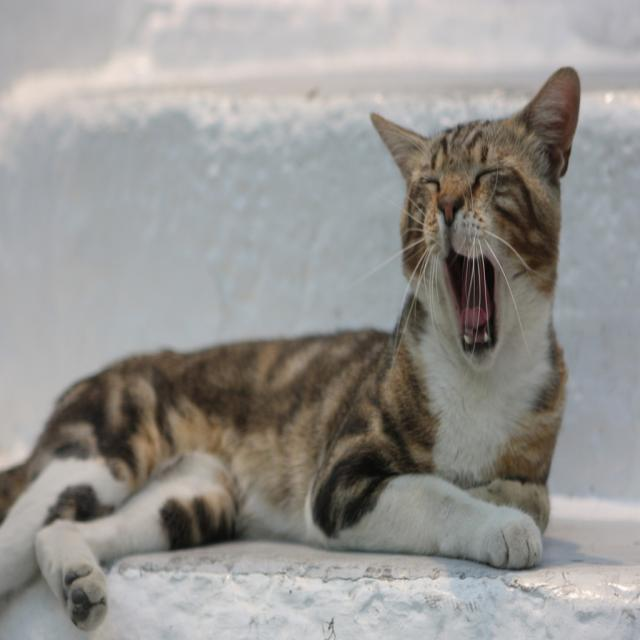Cat: (0, 64, 581, 630)
